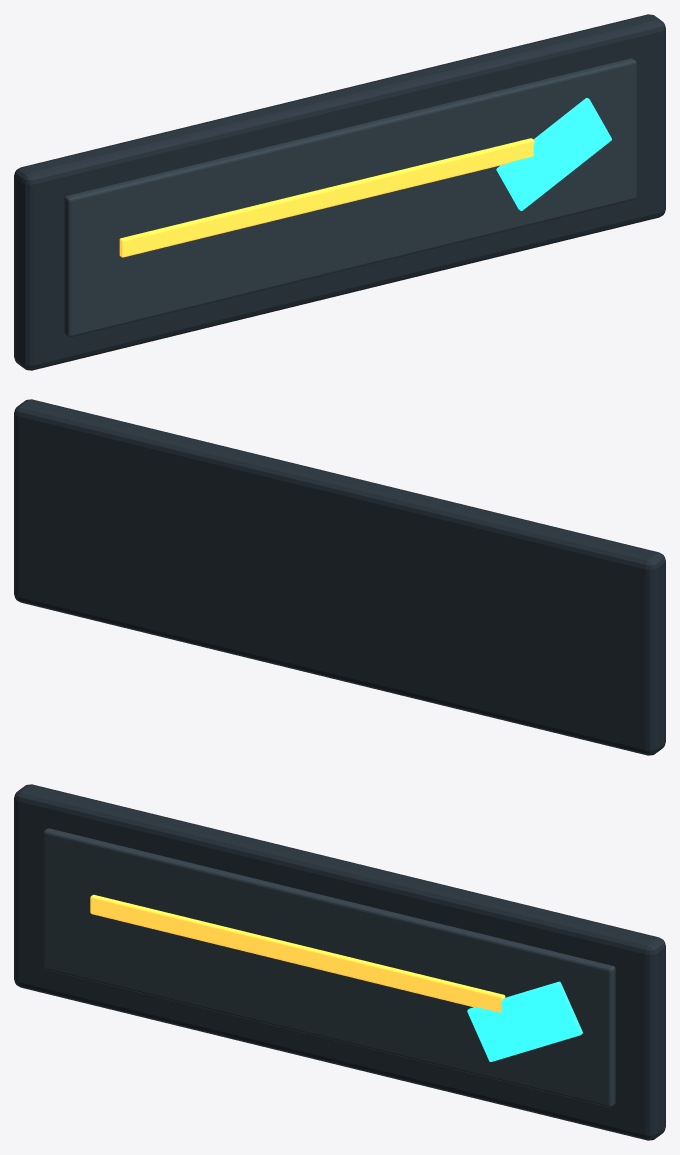
Rendered from route-sign.glb.
3 renders of one model, top to bottom at view 1: azimuth 30°, elevation 25°; view 2: azimuth 150°, elevation 25°; view 3: azimuth 330°, elevation 25°, orthographic.
Parts seen in each view (by area): view 1: route_sign_surface_01, route_sign_surface_00, route_sign_surface_02, route_sign_surface_03; view 2: route_sign_surface_00; view 3: route_sign_surface_01, route_sign_surface_00, route_sign_surface_02, route_sign_surface_03.
Part boxes in pixels (x1=…): route_sign_surface_01: x1=64, y1=58, x2=636, y2=337; route_sign_surface_00: x1=14, y1=14, x2=665, y2=370; route_sign_surface_02: x1=119, y1=138, x2=534, y2=257; route_sign_surface_03: x1=496, y1=98, x2=611, y2=210; route_sign_surface_00: x1=14, y1=399, x2=665, y2=755; route_sign_surface_01: x1=43, y1=828, x2=615, y2=1107; route_sign_surface_00: x1=14, y1=784, x2=665, y2=1140; route_sign_surface_02: x1=90, y1=894, x2=505, y2=1012; route_sign_surface_03: x1=467, y1=981, x2=582, y2=1061.
Size of the model in its own units: 2.8 by 0.8201 by 0.1825.
